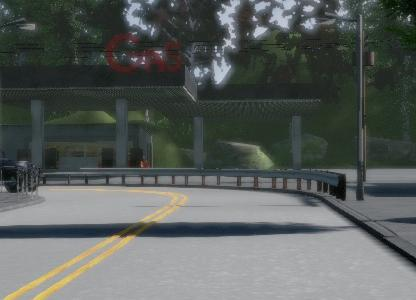Speed_60: (336, 68, 392, 124)
